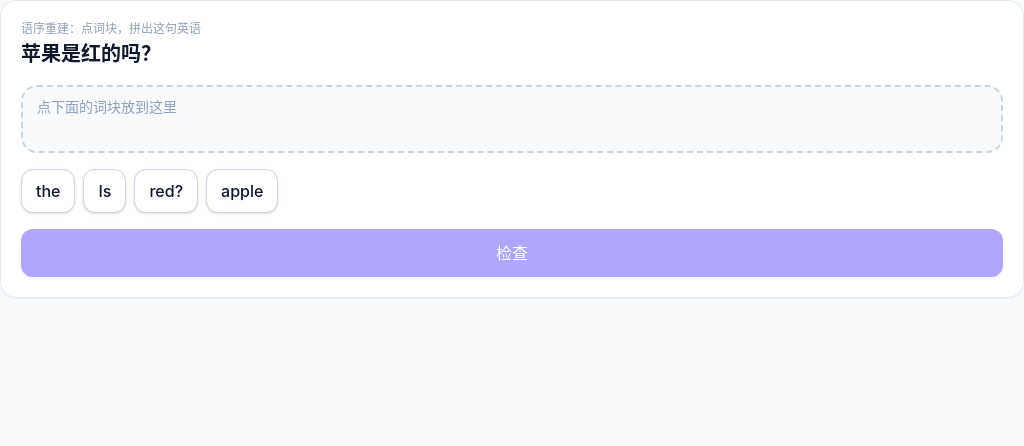
Test case: OrderDrill › is case-insensitive like compareAnswer (tile order is what matters)
Click the button "Is" at (105, 190), box [84,168,126,212]
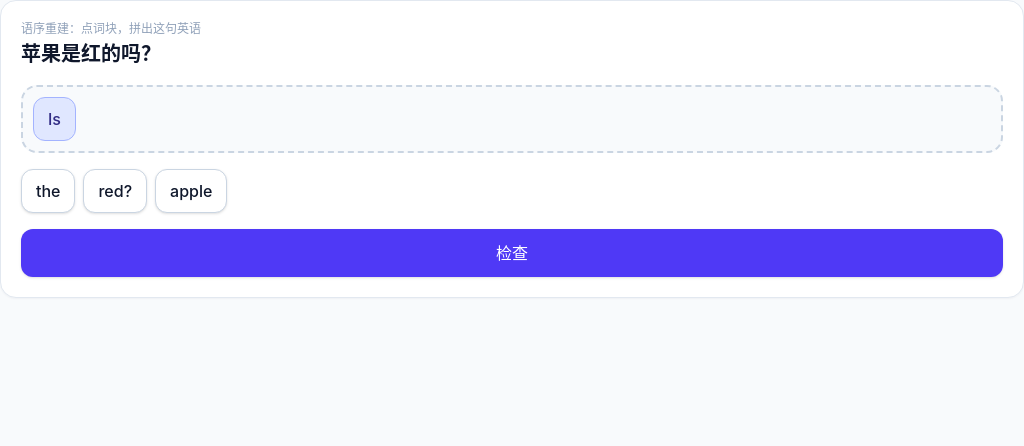
Click the button "the" at (48, 190), box [21,168,76,212]
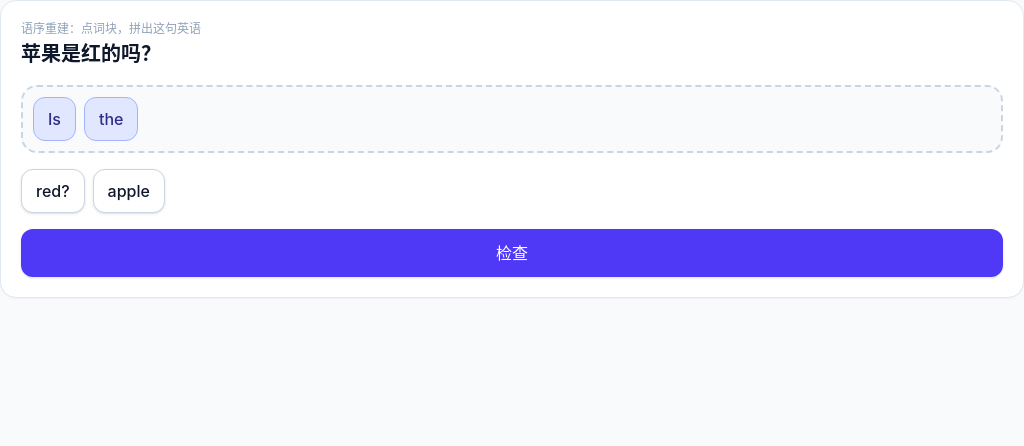
Click the button "apple" at (129, 190), box [93,168,165,212]
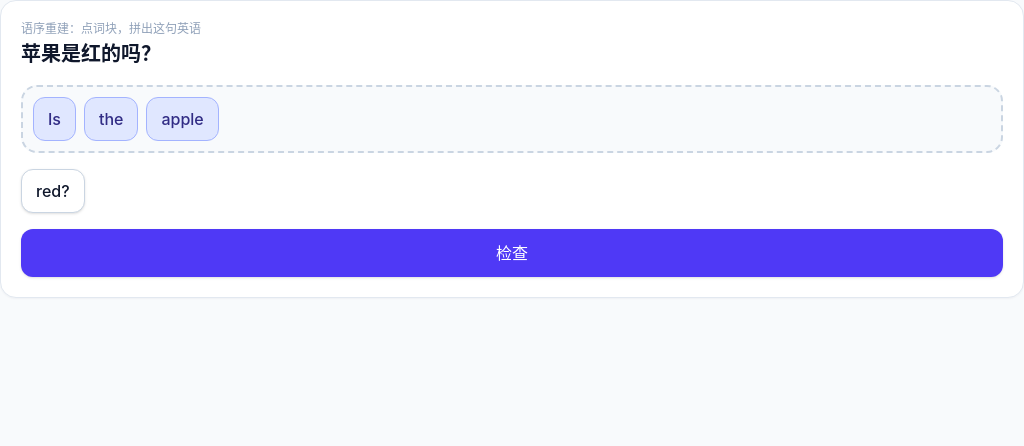
Click the button "red?" at (53, 190), box [21,168,85,212]
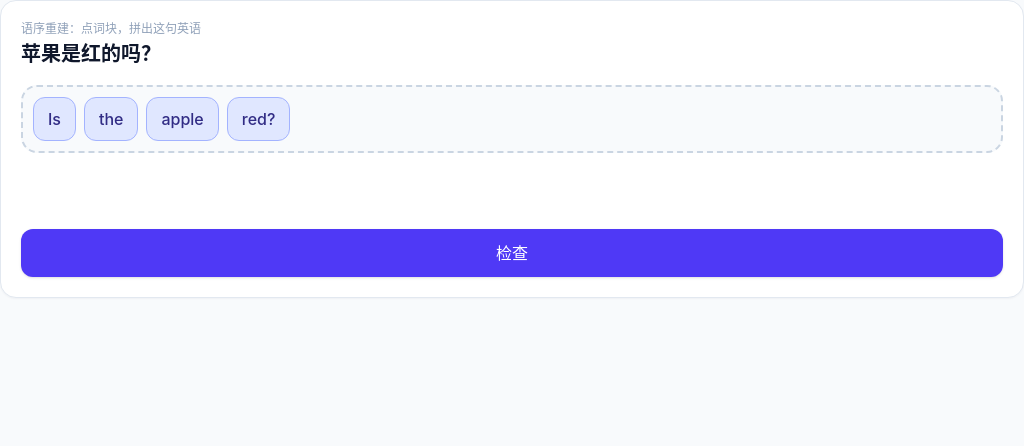
Click the button "检查" at (512, 252), box [21,228,1003,276]
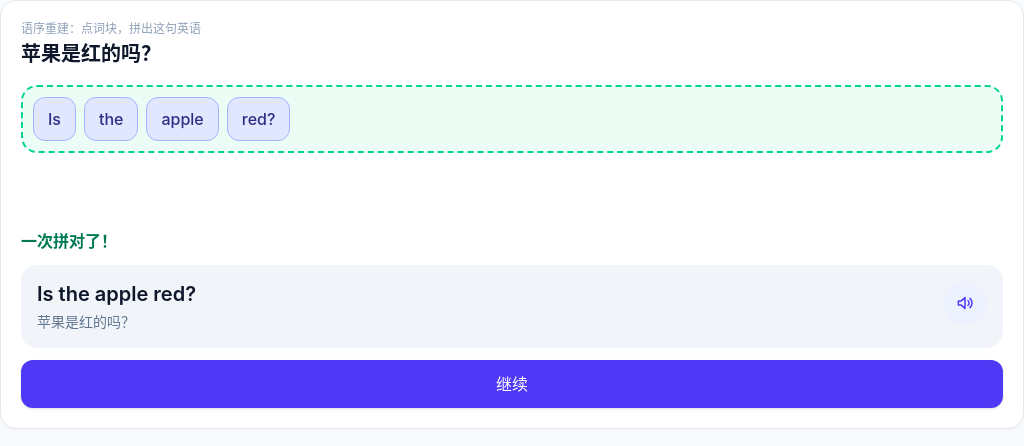
Result: the text "一次拼对了！" is shown at [21,230,117,250]
